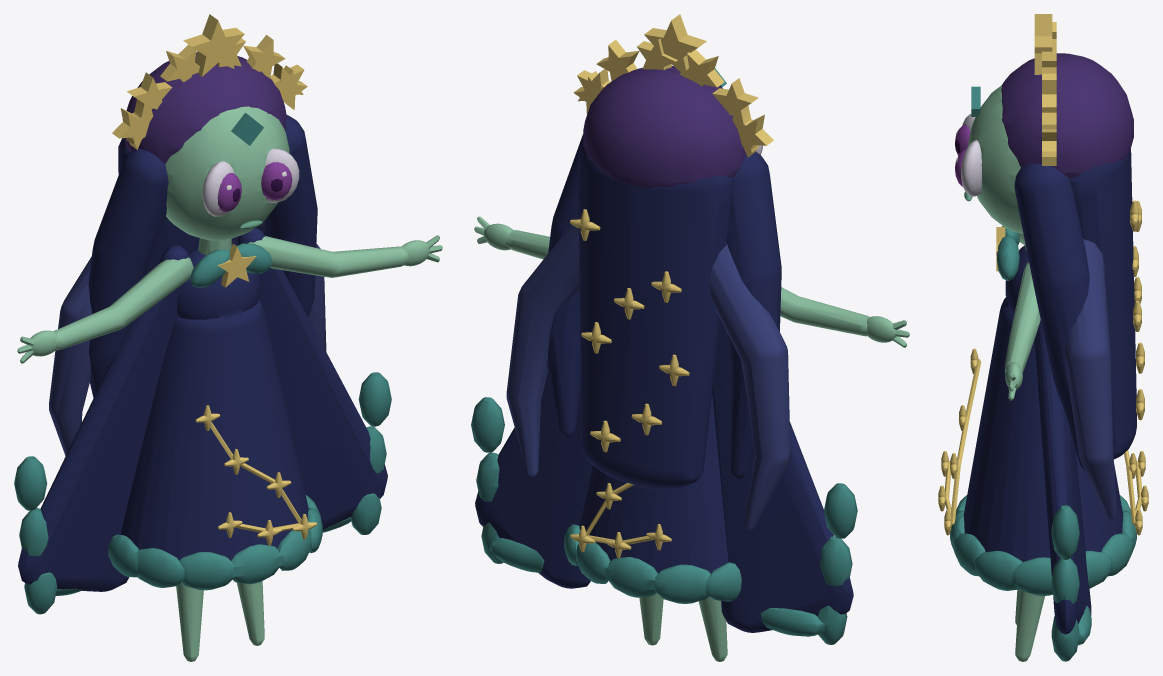
Rendered from stellaria.glb.
The picture shows the model from 3 angles, left to right: view 1: azimuth 30°, elevation 25°; view 2: azimuth 150°, elevation 25°; view 3: azimuth 270°, elevation 25°; orthographic projection. The views are drawn at different scales.
Visible parts, largest first — view 1: creature; view 2: creature; view 3: creature.
Boxes of the visible parts, box(x1,y1,x2,y2) form: creature: box(14, 14, 442, 661); creature: box(471, 14, 909, 661); creature: box(938, 14, 1148, 661).
Bounding box in the file's own units: 0.71 × 1 × 0.3025.
